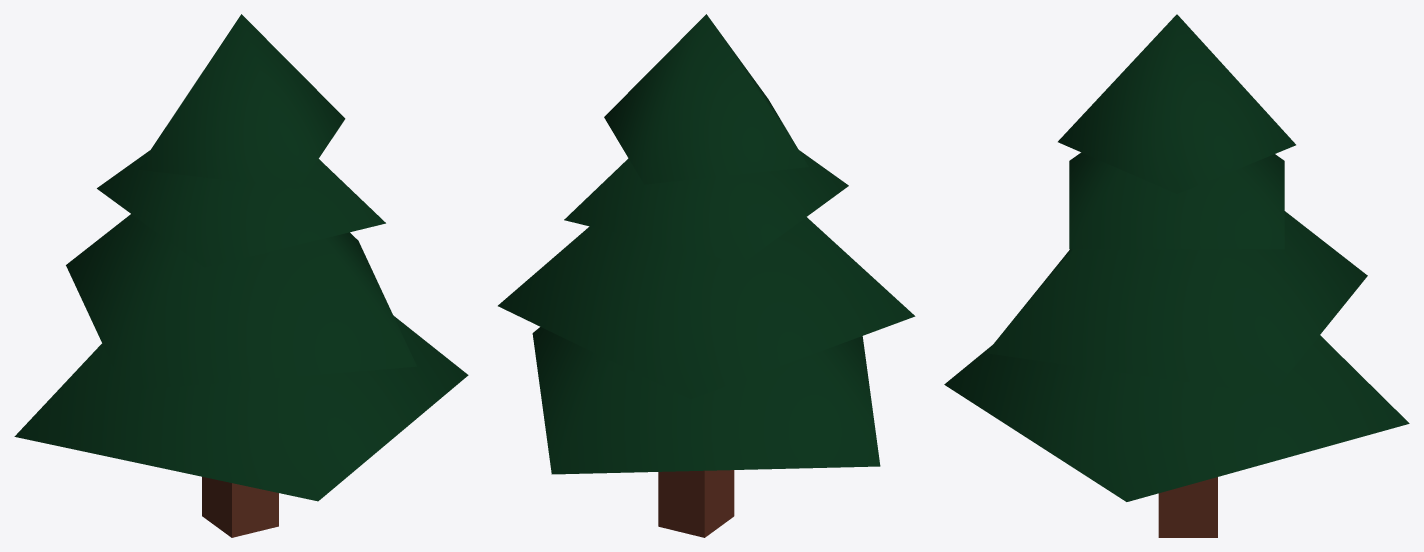
Rendered from tree_01.fbx.
3 views of the same model, side by side, from view 1: azimuth 30°, elevation 25°; view 2: azimuth 150°, elevation 25°; view 3: azimuth 270°, elevation 25° (orthographic).
Visible parts, largest first — view 1: tree_01; view 2: tree_01; view 3: tree_01.
Boxes of the visible parts, x1,y1,x2,y2 form: tree_01: (14,14,468,537); tree_01: (498,14,915,537); tree_01: (944,14,1409,537).
Size of the model in its own units: 4.46 by 5.41 by 4.48.
